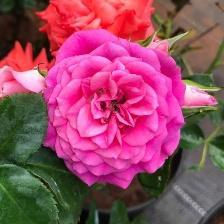rose: (42, 29, 189, 191)
